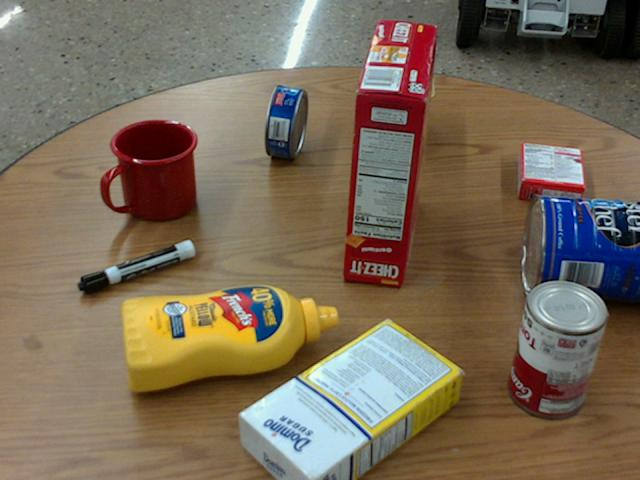cracker_box: (345, 19, 438, 284)
gelatin_box: (517, 141, 584, 204)
large_marker: (77, 239, 194, 293)
master_chef_can: (522, 193, 639, 300)
mug: (103, 120, 197, 221)
mustard_bottle: (120, 283, 337, 392)
potted_meat_can: (384, 59, 434, 157)
sugar_box: (236, 318, 461, 479)
tomato_soup_can: (509, 277, 607, 415)
tuna_fish_can: (263, 84, 308, 158)
